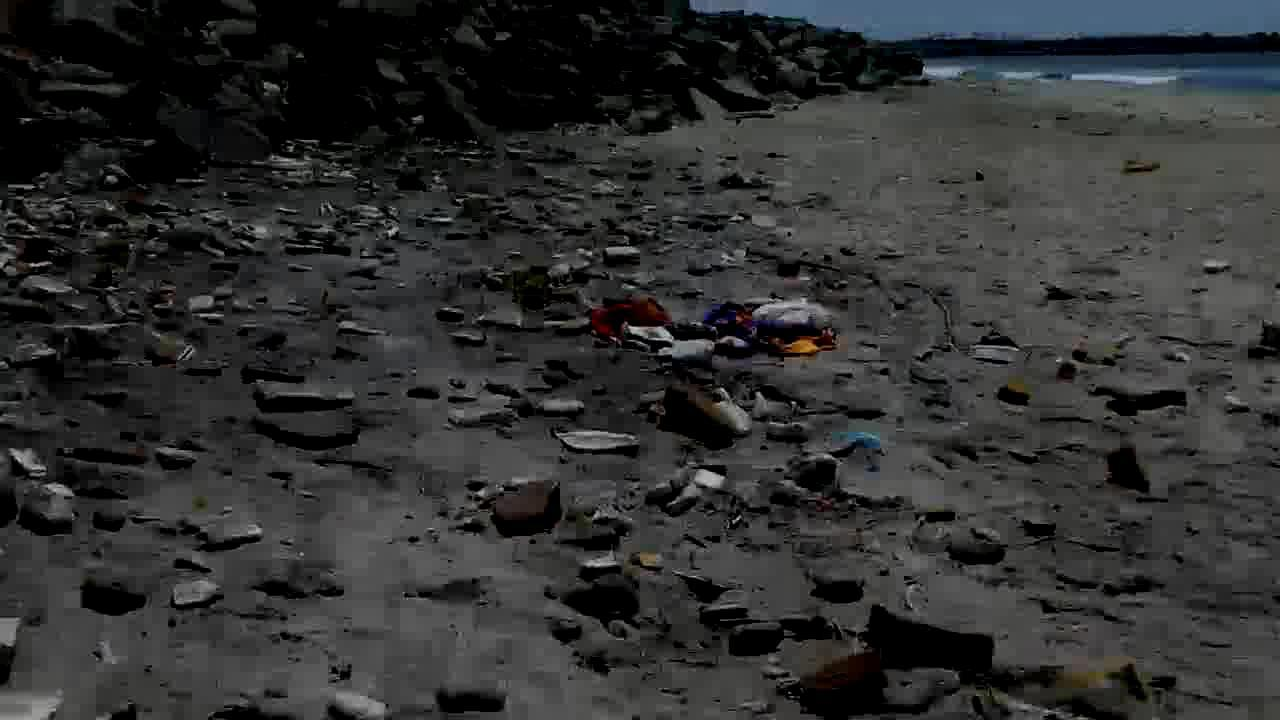large collection of objects: (786, 573, 996, 716), (2, 272, 194, 366), (235, 354, 383, 463), (11, 448, 92, 536), (490, 479, 566, 538)
obj: (696, 300, 838, 356), (585, 290, 672, 349), (658, 383, 734, 449), (1088, 381, 1184, 412), (698, 390, 754, 436), (830, 429, 885, 457), (602, 243, 642, 266), (998, 383, 1032, 405), (631, 554, 663, 570)
sand/background: (1, 0, 1279, 196)
